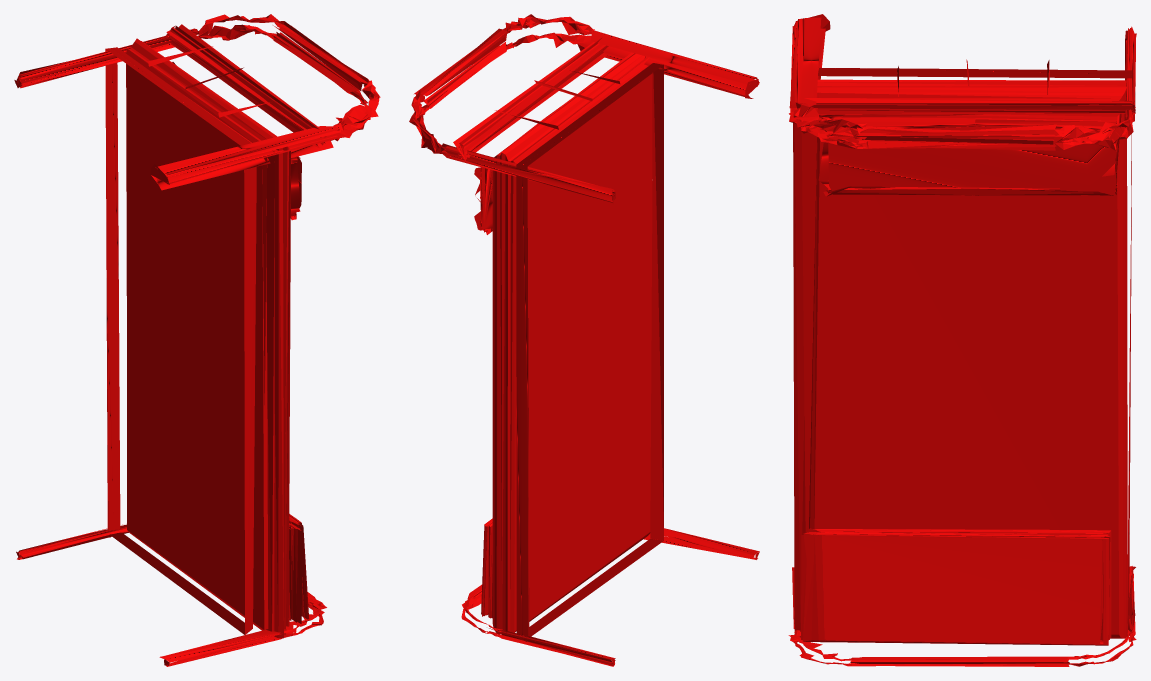
3 renders of one model, left to right at view 1: azimuth 30°, elevation 25°; view 2: azimuth 150°, elevation 25°; view 3: azimuth 270°, elevation 25°, orthographic. The views are drawn at different scales.
Parts seen in each view (by area): view 1: Renderer Node; view 2: Renderer Node; view 3: Renderer Node.
Boxes of the visible parts, x1,y1,x2,y2 form: Renderer Node: [14, 14, 380, 666]; Renderer Node: [409, 14, 759, 666]; Renderer Node: [788, 14, 1136, 666].
Bounding box in the file's own units: 0.4002 × 0.8163 × 0.445.
1 material, 1 textured.
